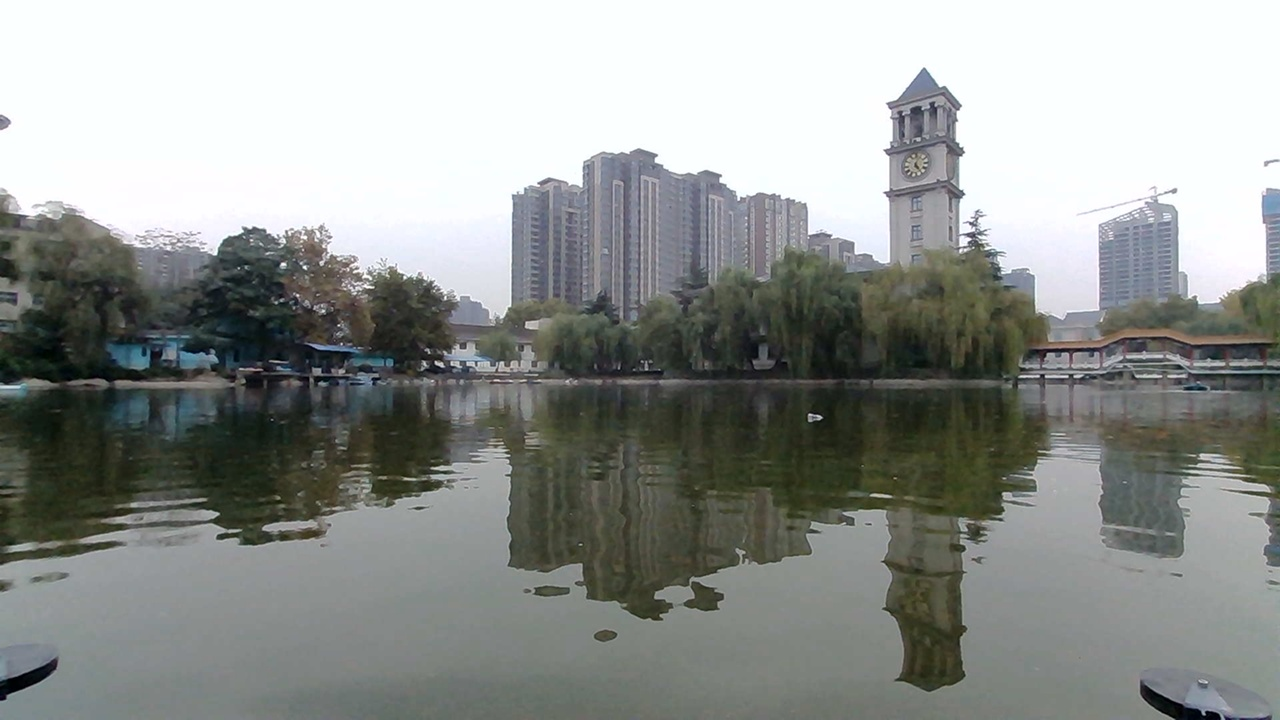bottle: (803, 398, 842, 428)
